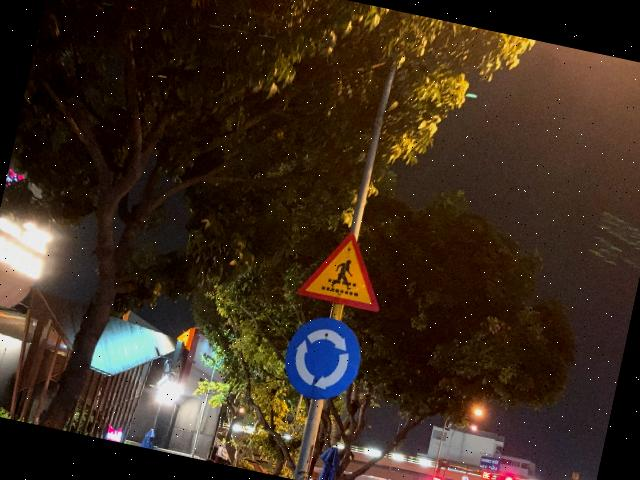duong-nguoi-di-bo-cat-ngang: (296, 223, 392, 312)
noi-giao-nhau-chay-theo-vong-xuyen: (276, 310, 368, 408)
